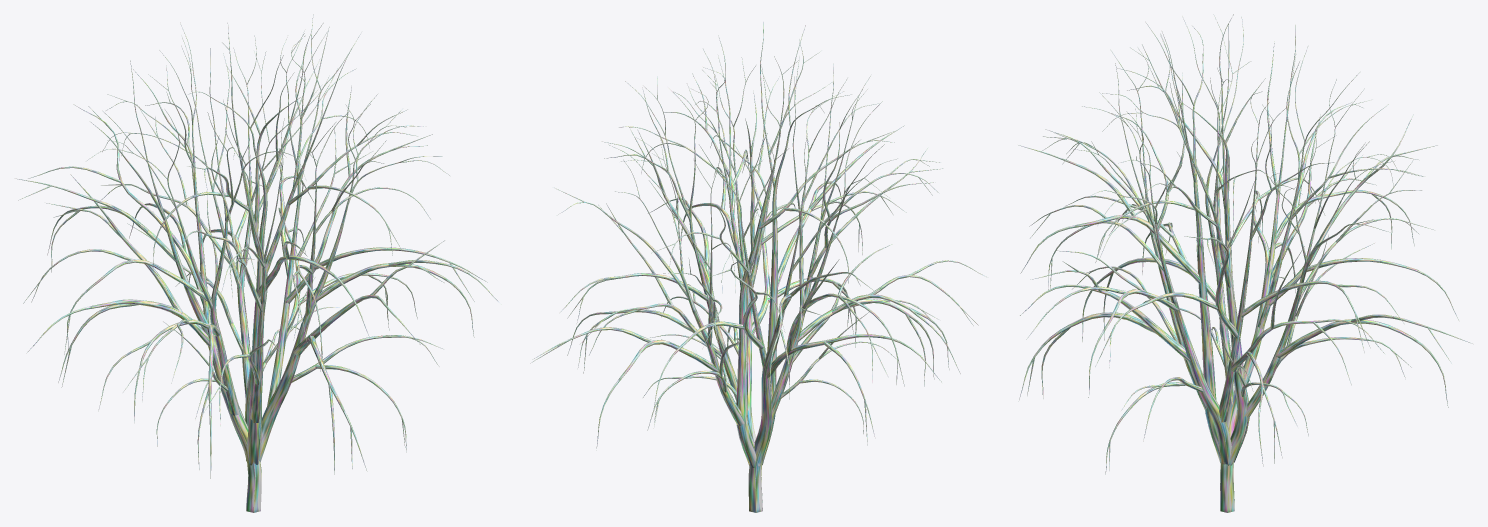
Rendered from snowTree2.glb.
3 views of the same model, side by side, from view 1: azimuth 30°, elevation 25°; view 2: azimuth 150°, elevation 25°; view 3: azimuth 270°, elevation 25° (orthographic). The views are drawn at different scales.
Visible parts, largest first — view 1: tree; view 2: tree; view 3: tree.
Part boxes in pixels (bbox=[...]): tree: bbox=[14, 14, 501, 512]; tree: bbox=[530, 22, 986, 512]; tree: bbox=[1018, 14, 1472, 512].
Size of the model in its own units: 5.41 by 6.48 by 5.47.
1 material, 1 textured.
